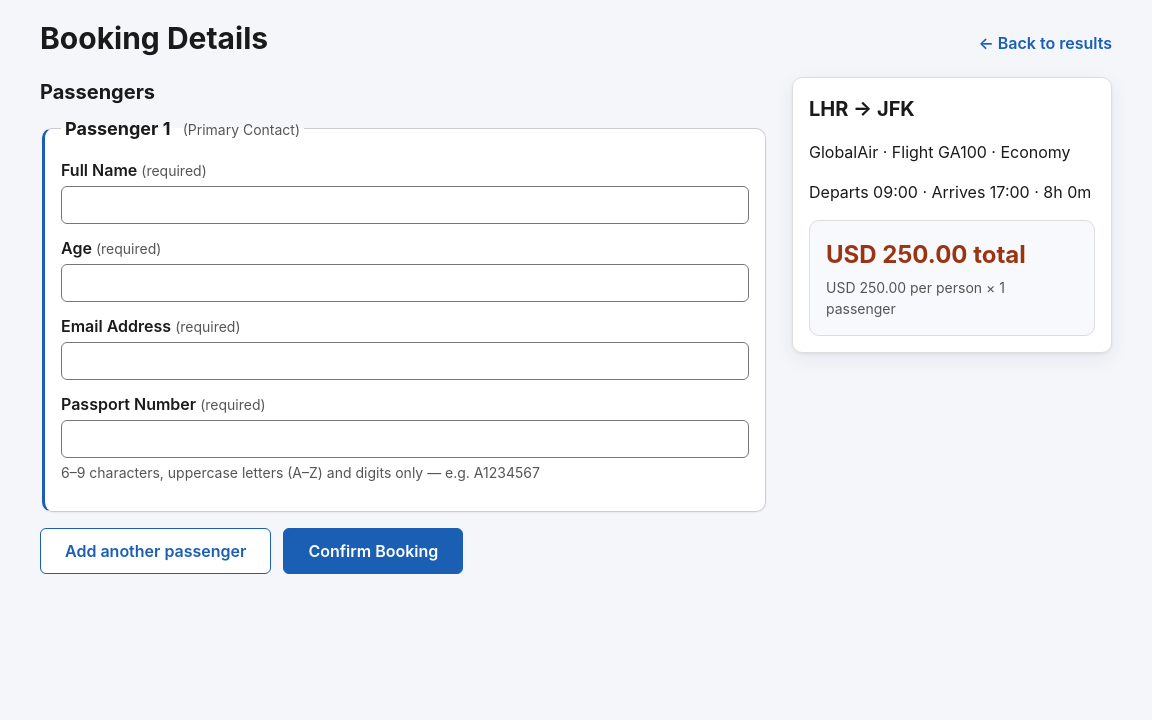
Test: BookingFormComponent › a valid Add another appends a card above, resets the same form blank in place, and focuses its first field
This screenshot has width=1152, height=720.
Type "Passenger 1" into the field with id "fullName-0". click: (405, 205)
box: [61,186,749,224]
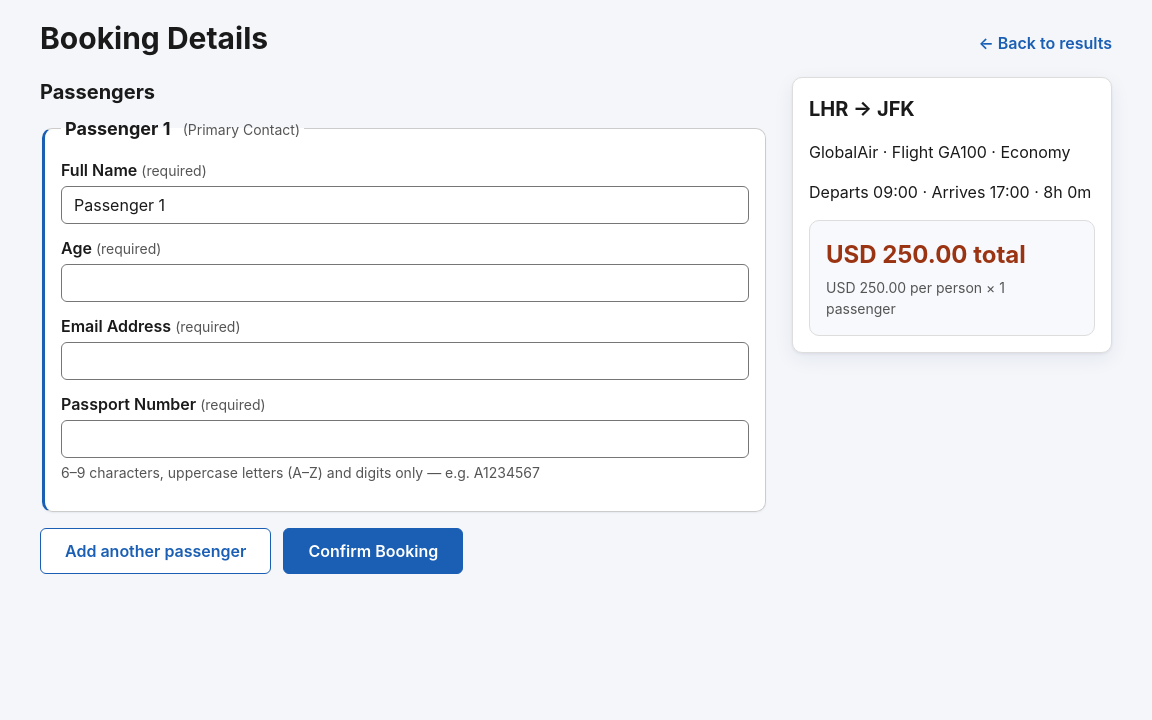
Type "31" into the number field with id "age-0". click: (405, 283)
box: [61,264,749,302]
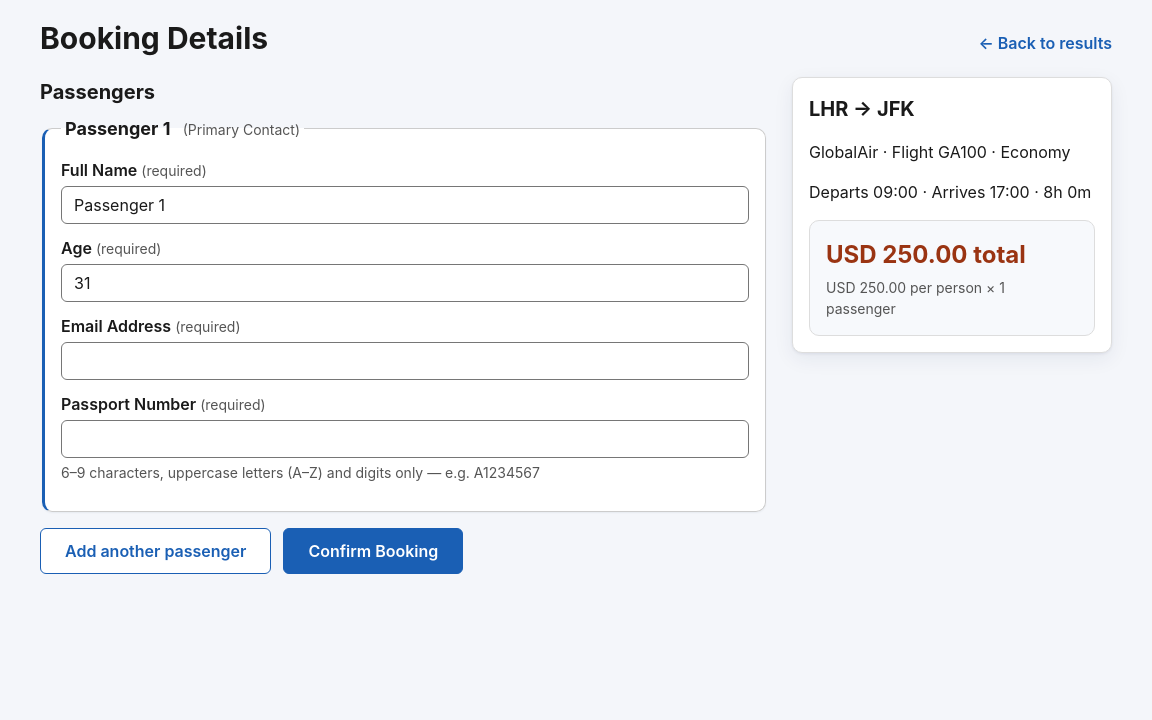
Type "p1@example.com" into the field labelled "Email Address (required)". click: (405, 361)
box: [61,342,749,380]
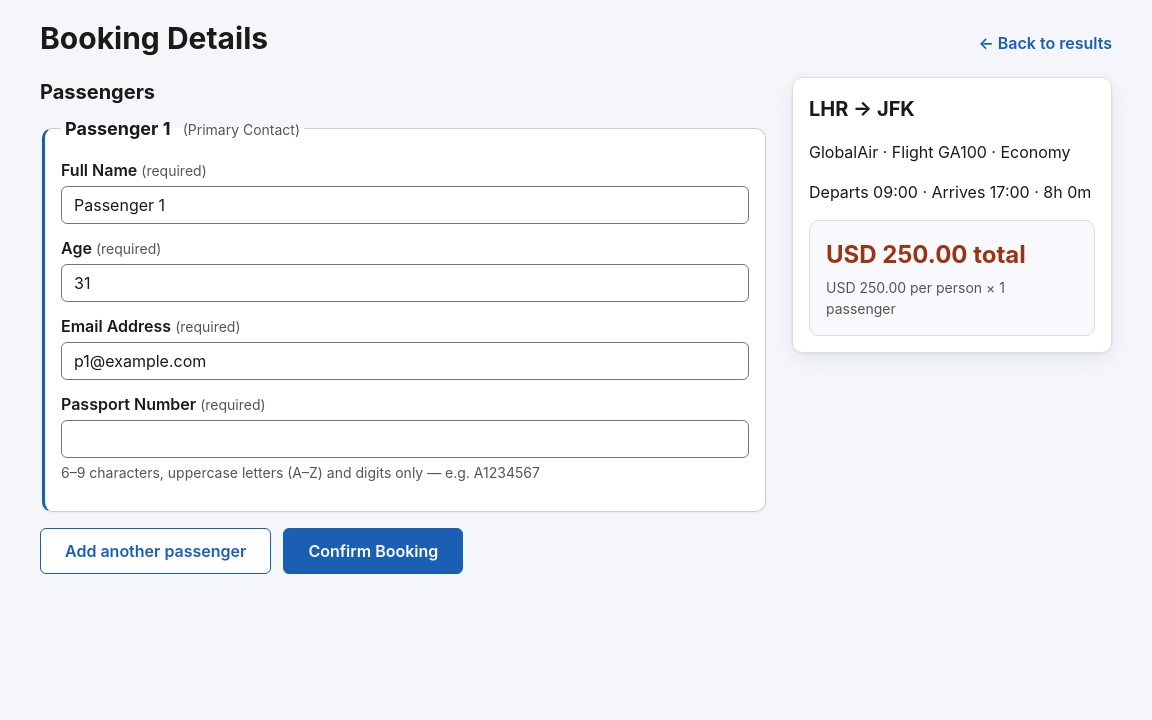
Type "AB123451" into the field with id "documentNumber-0". click: (405, 439)
box: [61,420,749,458]
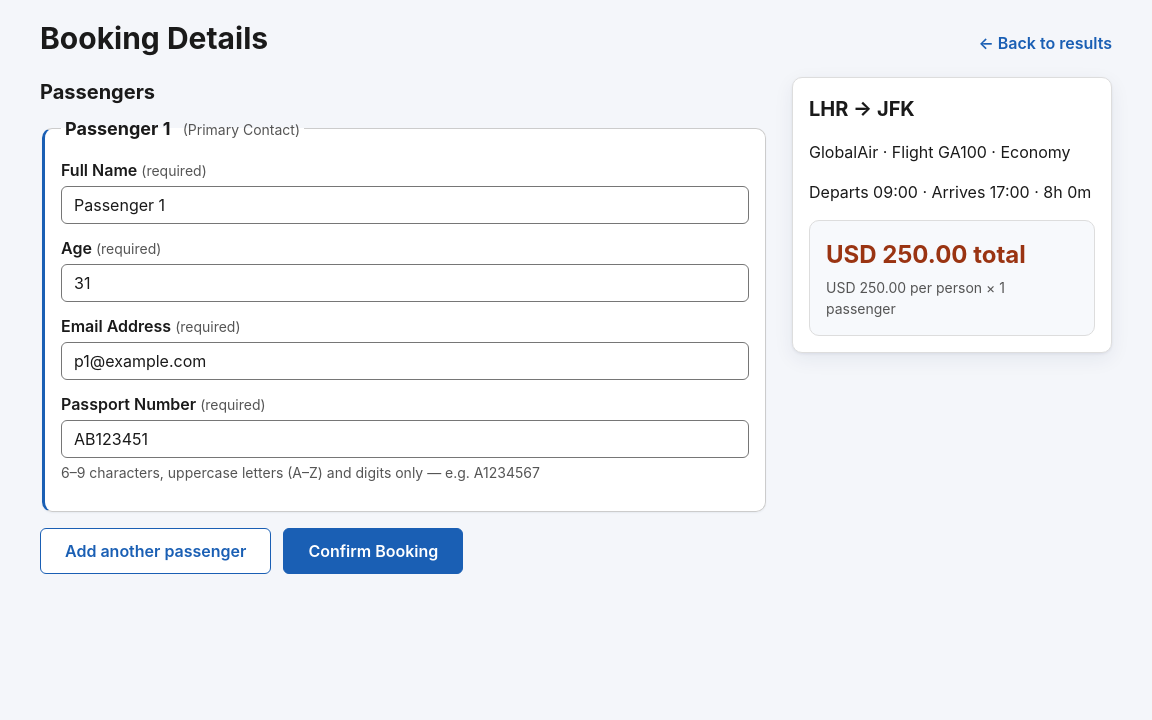
Click the button with id "add-another-btn". click: (156, 551)
box: [40,528,271,574]
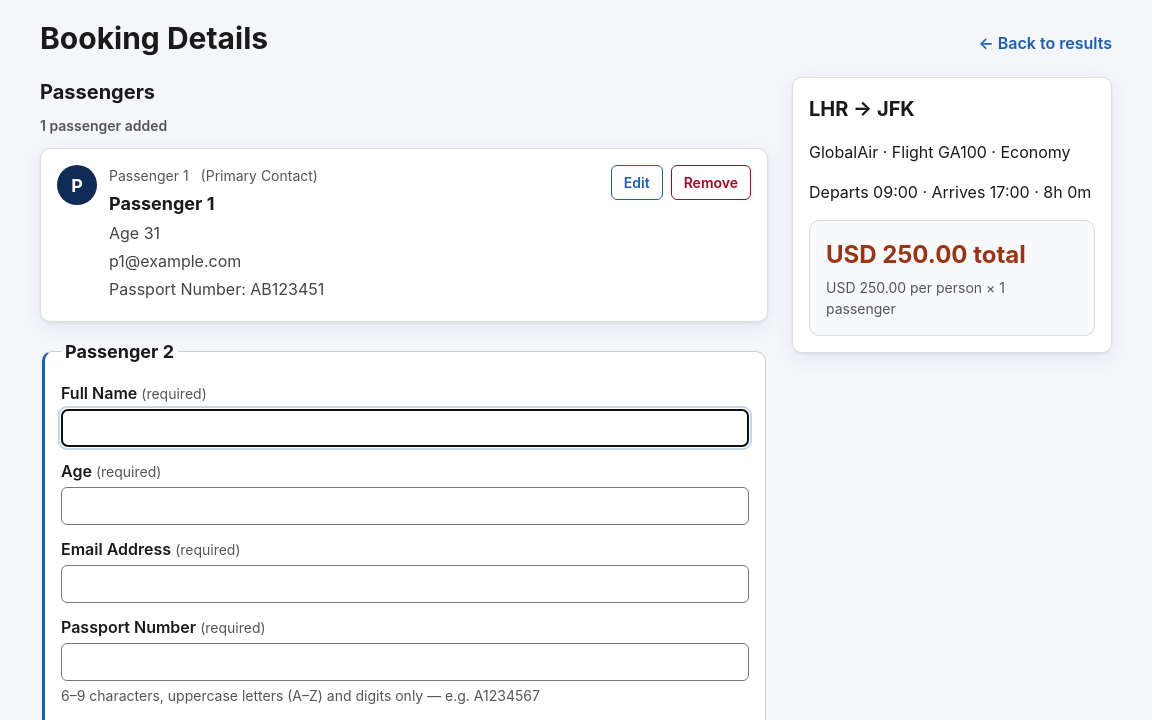
Now the list item shows "Passenger 1", box [109,167,193,184]
Now the list item shows "(Primary Contact)", box [201,167,318,184]
Now the list item shows "p1@example.com", box [109,251,241,271]
